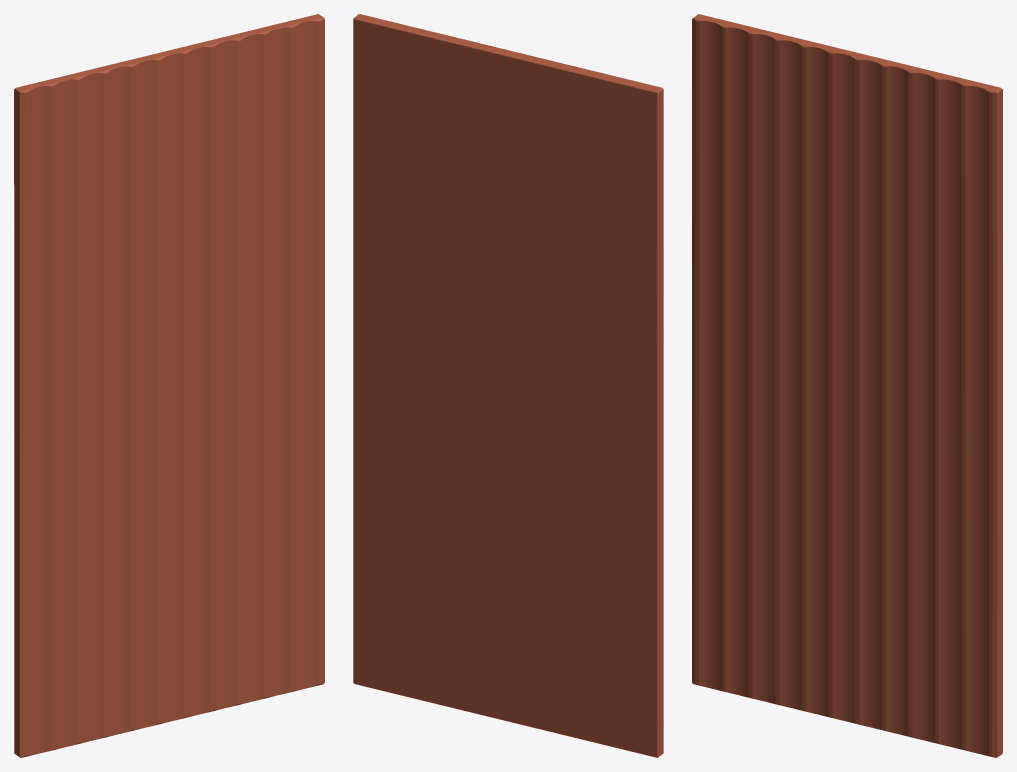
File: pannello-arancione.glb
3 renders of one model, left to right at view 1: azimuth 30°, elevation 25°; view 2: azimuth 150°, elevation 25°; view 3: azimuth 330°, elevation 25°, orthographic.
Visible parts, largest first — view 1: ASY_ART_50605728_S01_NV01; view 2: ASY_ART_50605728_S01_NV01; view 3: ASY_ART_50605728_S01_NV01.
Boxes of the visible parts, x1,y1,x2,y2 form: ASY_ART_50605728_S01_NV01: (14, 14, 324, 757); ASY_ART_50605728_S01_NV01: (353, 14, 663, 757); ASY_ART_50605728_S01_NV01: (692, 14, 1002, 757).
Bounding box in the file's own units: 0.39 × 0.813 × 0.015.
1 material, 1 textured.
